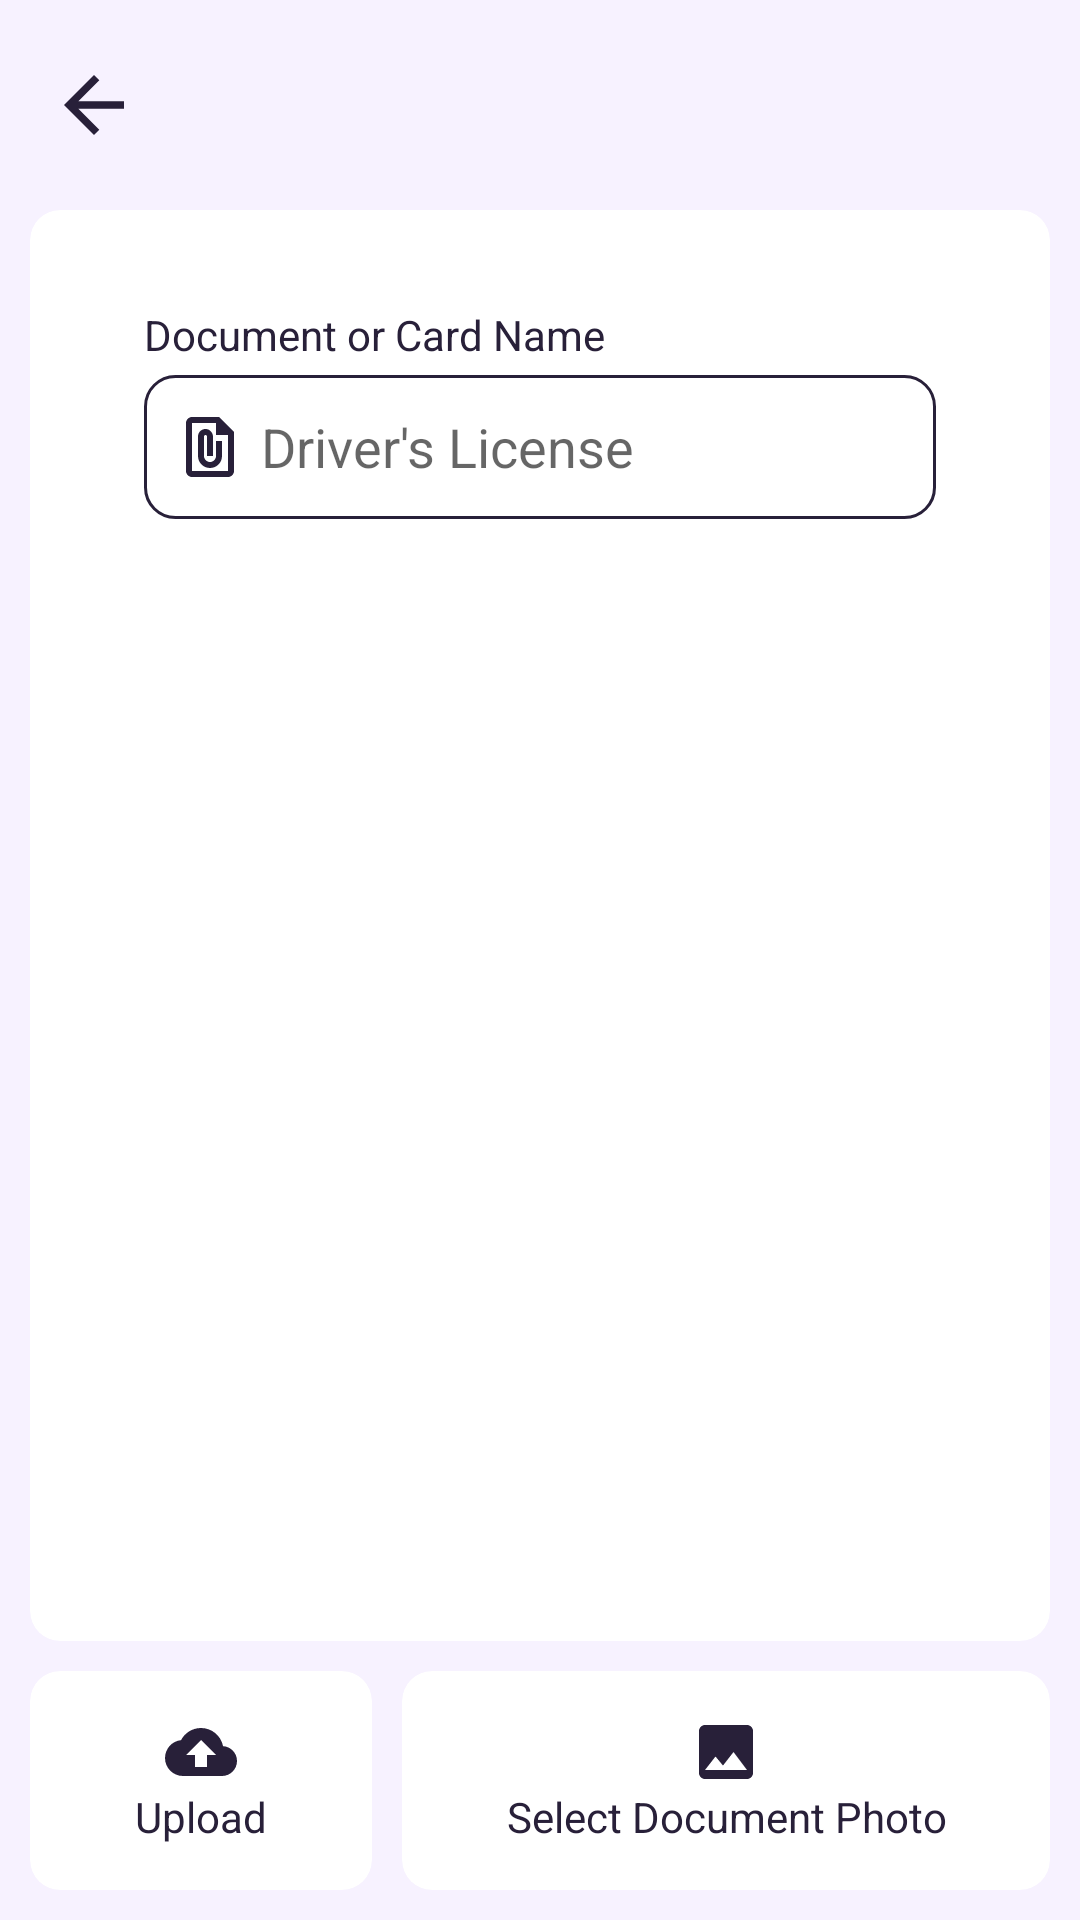

Icon bounding boxes for this 1080px×1920px phone screenshot, format (x1, y1, x2, y2):
back: (64, 75, 124, 135)
